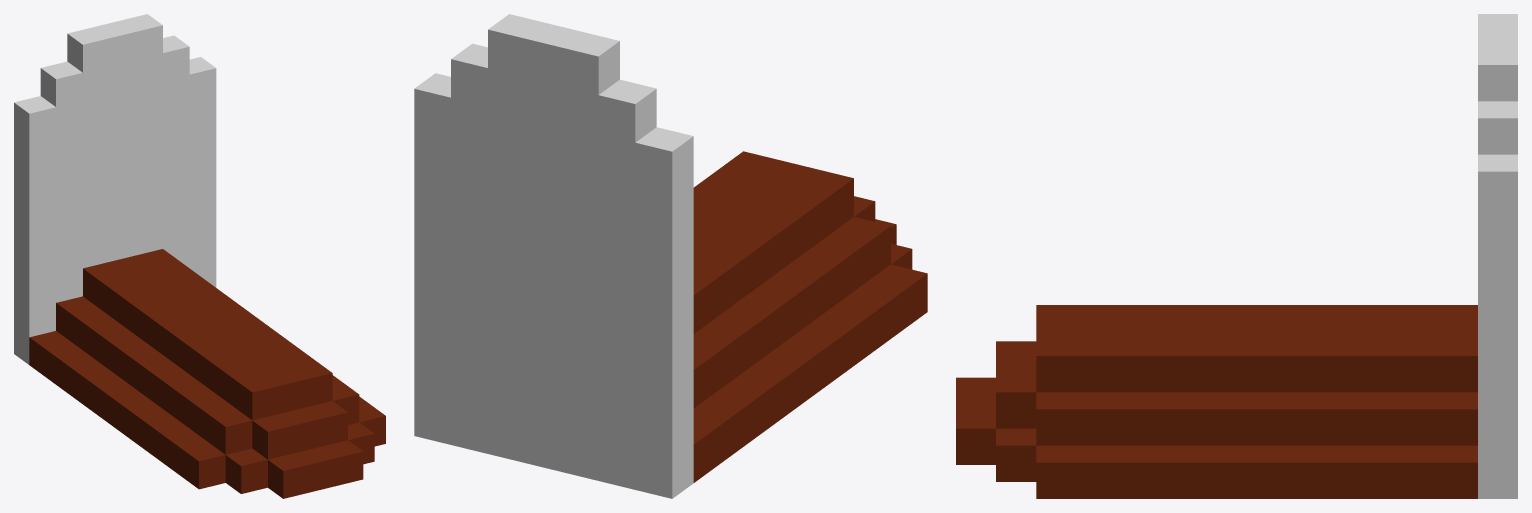
File: grave01.obj
The picture shows the model from 3 angles, left to right: view 1: azimuth 30°, elevation 25°; view 2: azimuth 150°, elevation 25°; view 3: azimuth 270°, elevation 25°; orthographic projection. The views are drawn at different scales.
Bounding box in the file's own units: 0.7 × 1.1 × 1.4.
1 material, 1 textured.
